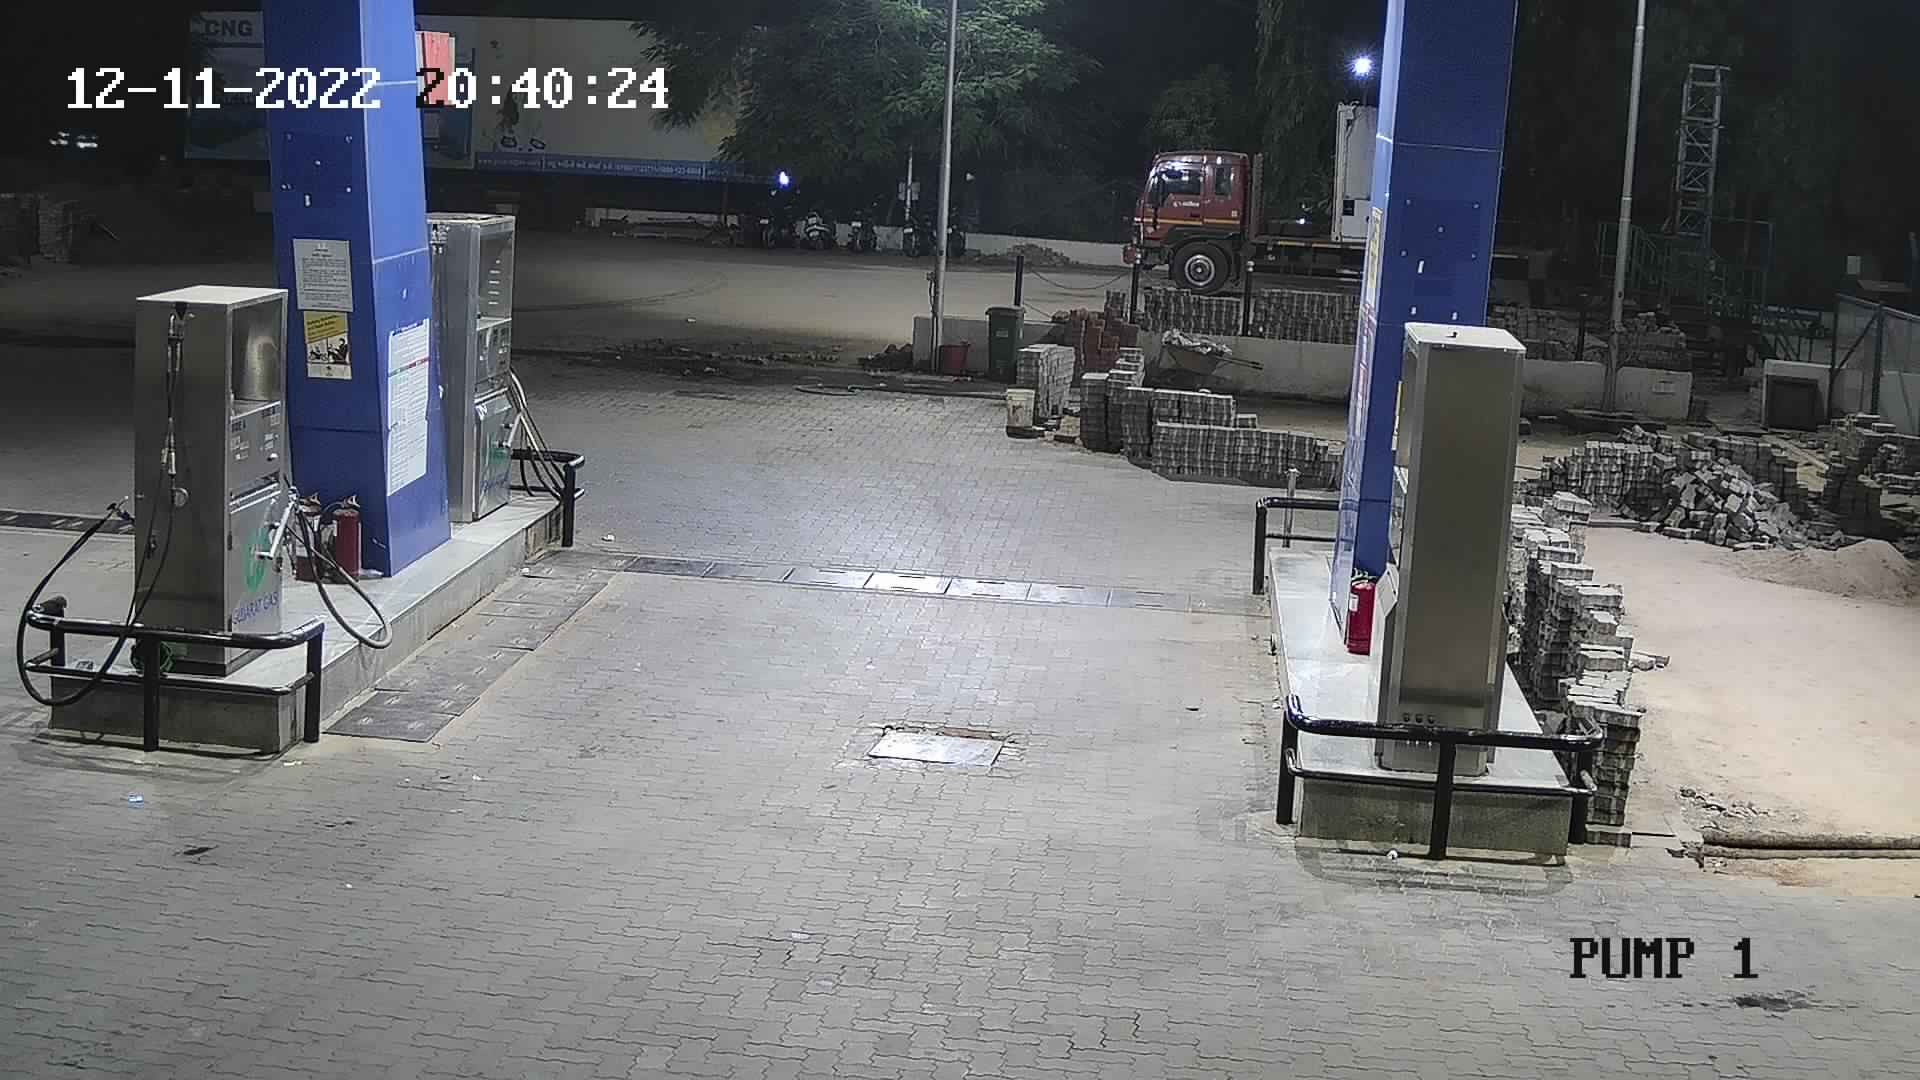Bike: (840, 189, 891, 258), (796, 187, 844, 257), (891, 194, 936, 266), (752, 189, 803, 247), (940, 198, 975, 264)
HMV: (1114, 92, 1387, 305)
